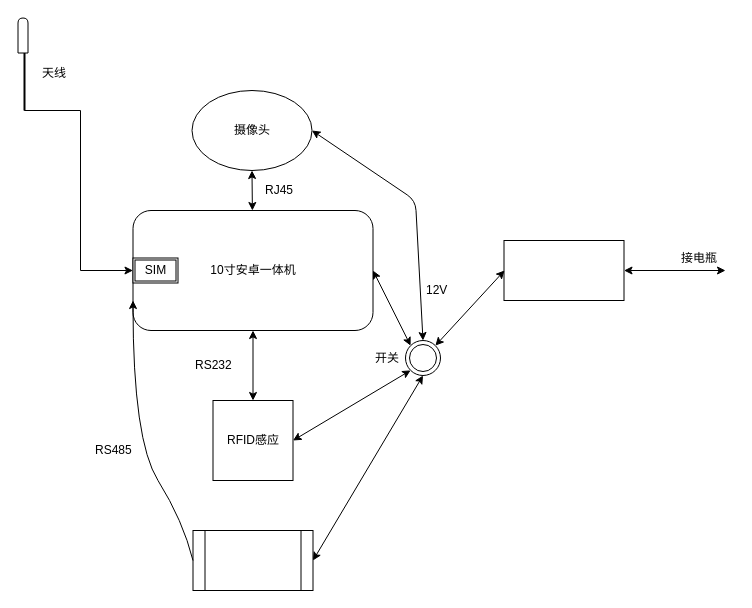
The diagram is 752 pixels wide and 608 high, and some of its shapes have lost their labels. The box of each missing label's shape, as (x1, y1, x2, y2) in pixels:
变压器: (503, 240, 624, 300)
称重传感器: (192, 530, 313, 590)
